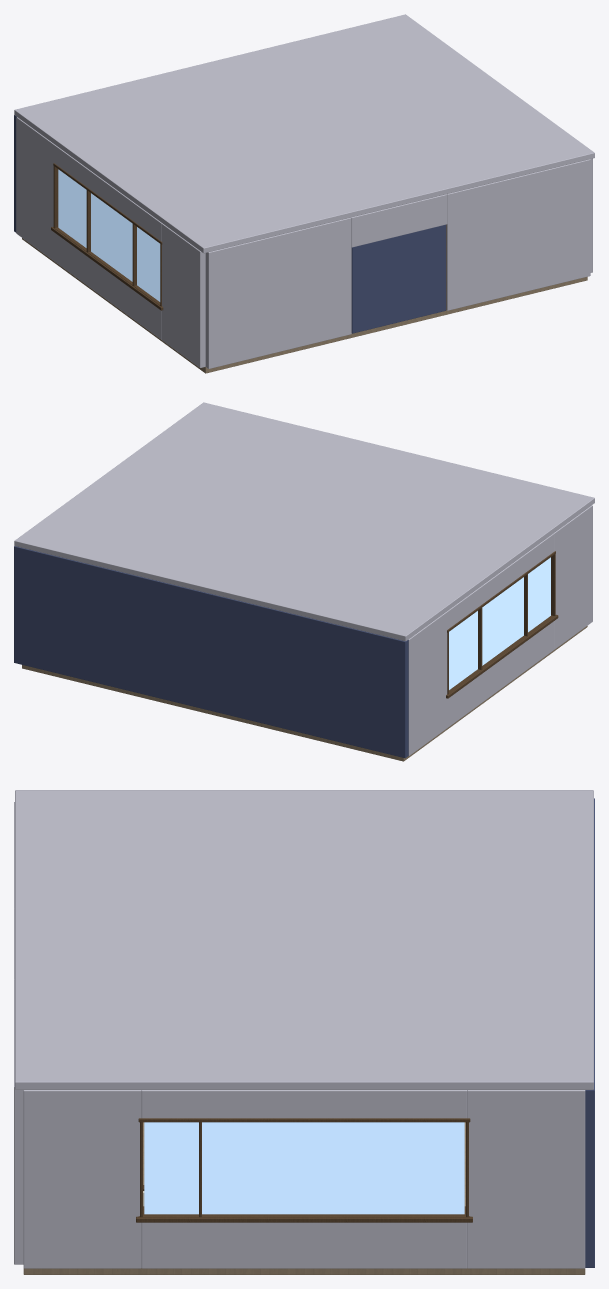
The model's file is recommendation_room.glb.
3 renders of one model, top to bottom at view 1: azimuth 30°, elevation 25°; view 2: azimuth 150°, elevation 25°; view 3: azimuth 270°, elevation 25°, orthographic. The views are drawn at different scales.
Parts seen in each view (by area): view 1: SM_Recommendation_Architecture; view 2: SM_Recommendation_Architecture; view 3: SM_Recommendation_Architecture.
Part boxes in pixels (left/top/right/bottom): SM_Recommendation_Architecture: left=14, top=14, right=594, bottom=373; SM_Recommendation_Architecture: left=14, top=402, right=594, bottom=761; SM_Recommendation_Architecture: left=14, top=790, right=594, bottom=1274.
Bounding box in the file's own units: 12.48 × 3.86 × 10.34.
12 materials, 2 textured.
